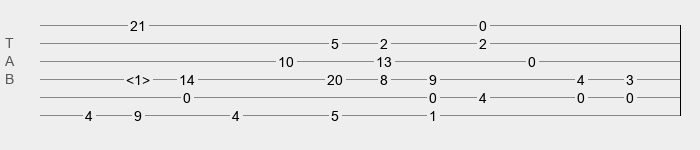0: (183, 90, 191, 100), (429, 90, 437, 100), (479, 18, 487, 28), (528, 54, 536, 64), (577, 90, 585, 100), (626, 90, 634, 100)
1: (429, 108, 437, 118)
10: (278, 54, 294, 64)
13: (376, 54, 392, 64)
14: (179, 72, 195, 82)
2: (380, 36, 388, 46), (479, 36, 487, 46)
20: (327, 72, 343, 82)
21: (130, 18, 146, 28)
3: (626, 72, 634, 82)
4: (85, 108, 93, 118), (232, 108, 240, 118), (479, 90, 487, 100), (577, 72, 585, 82)
5: (331, 108, 339, 118), (331, 36, 339, 46)
8: (380, 72, 388, 82)
9: (134, 108, 142, 118), (429, 72, 437, 82)
harmonic: (126, 72, 150, 82)
